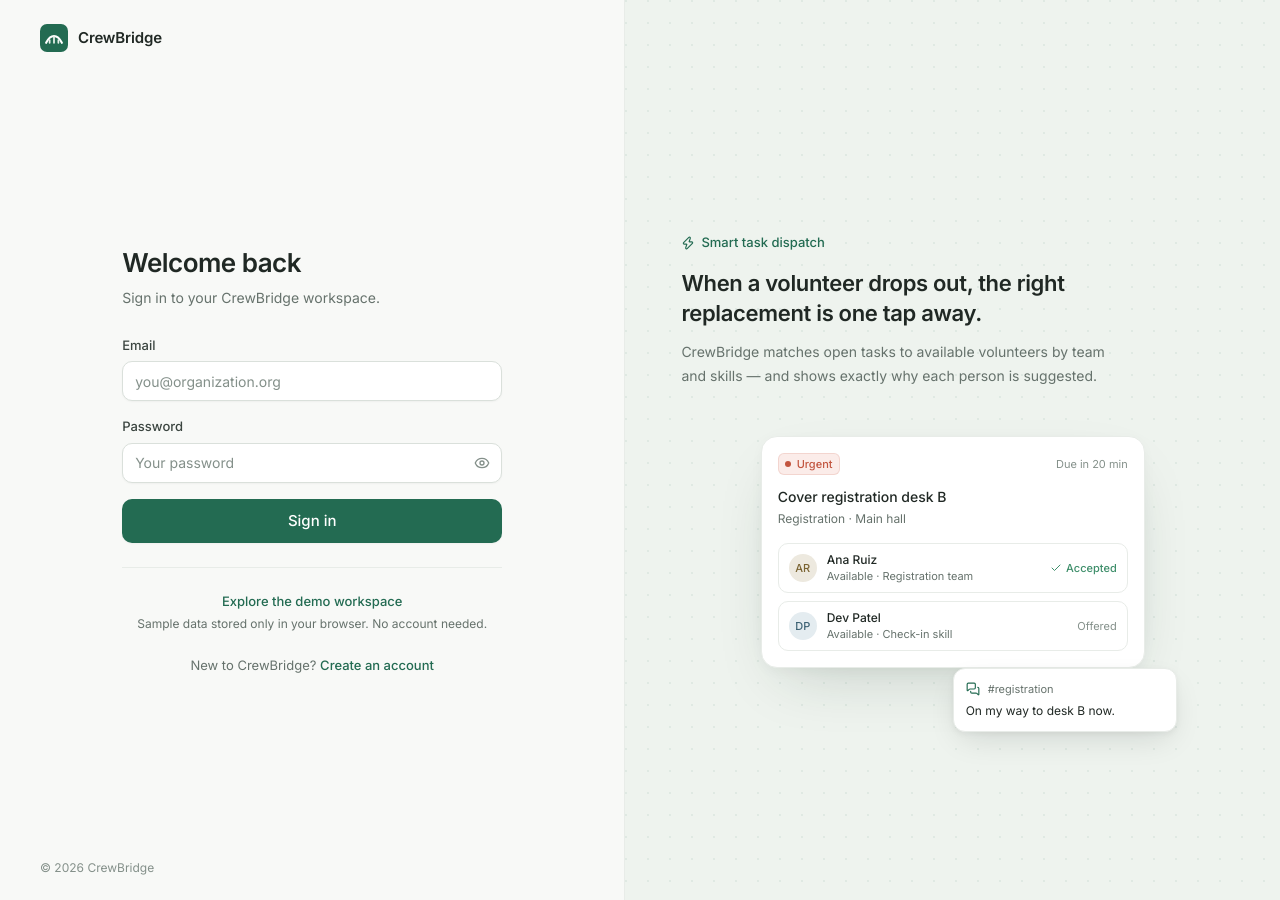
Test case: LoginPage › shows a credential error on 401
Type "ana@example.org" into the field labelled "Email" at [312, 381], box [122,361,502,401]
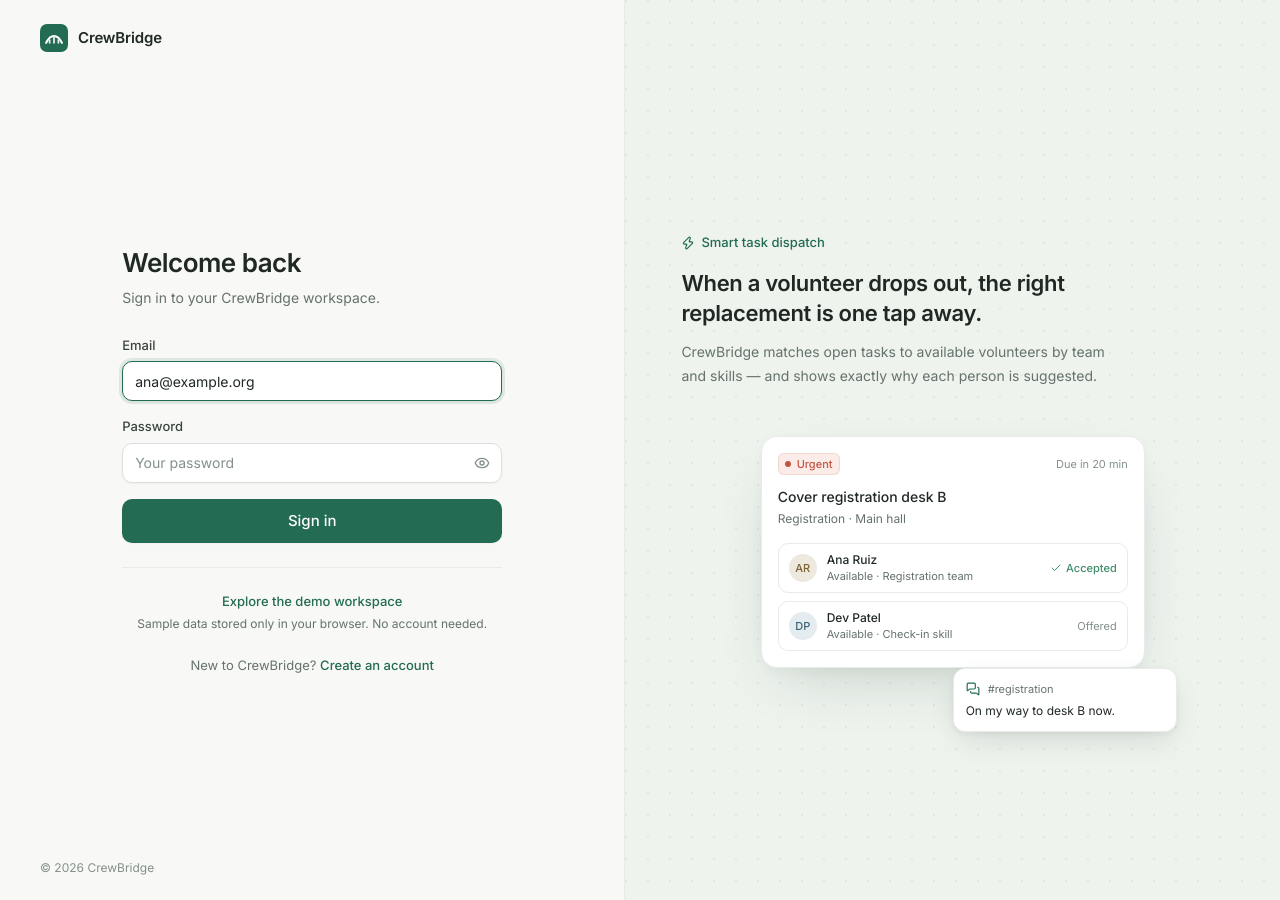
Type "wrong" into the password field labelled "Password" at [312, 463], box [122,443,502,483]
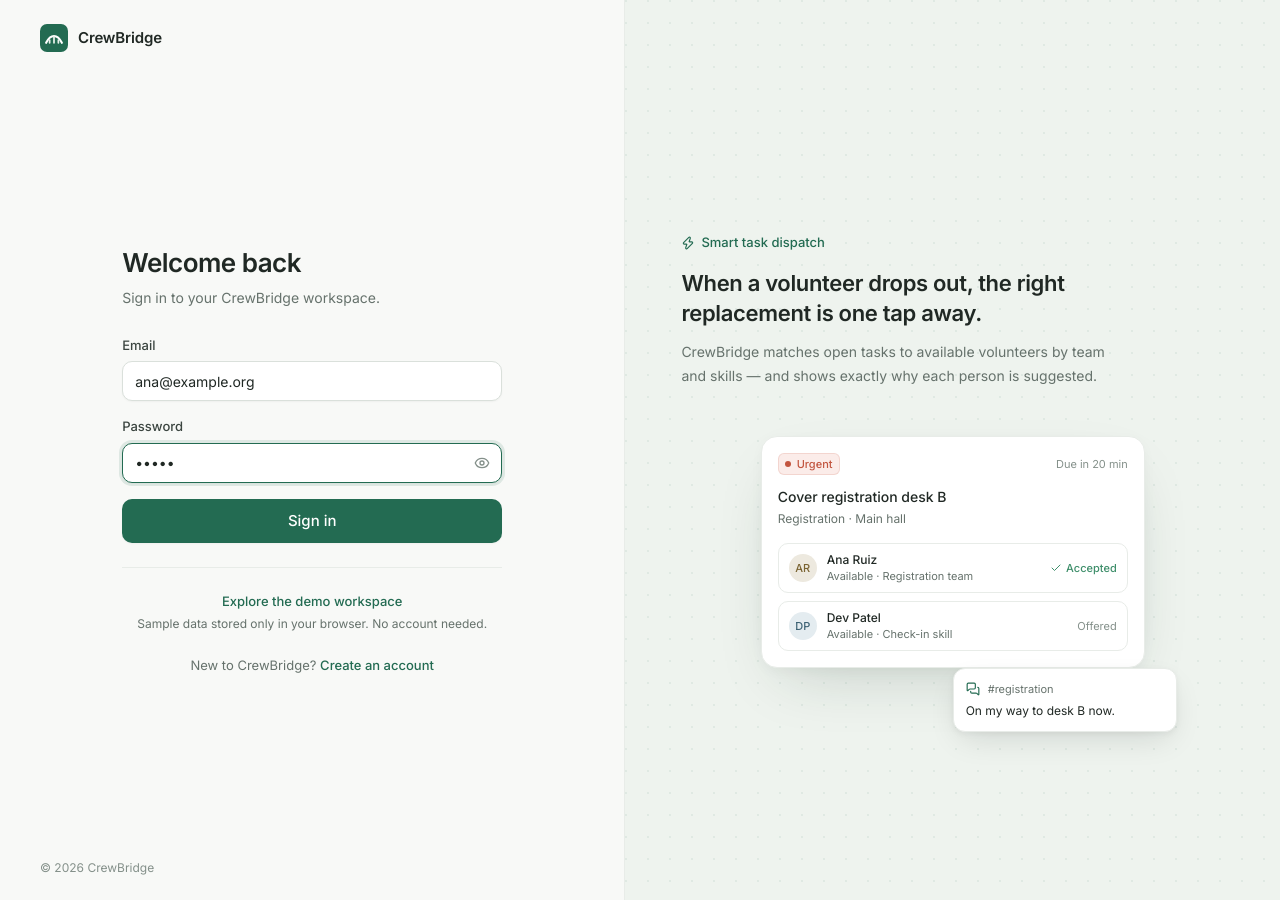
Click the button "Sign in" at [312, 521], box [122,499,502,543]
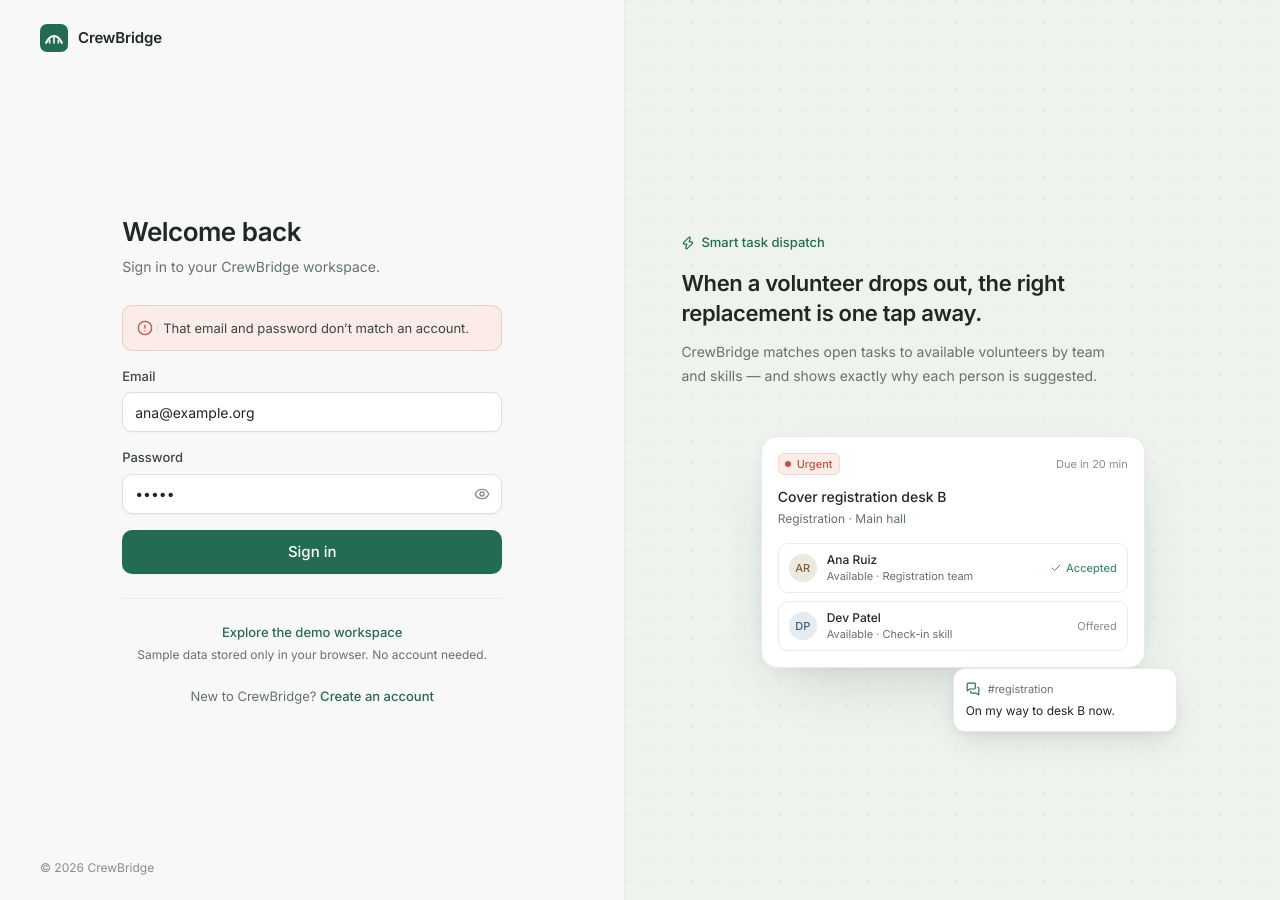
Result: the text "That email and password don’t match an account." is shown at [163,318,469,338]
